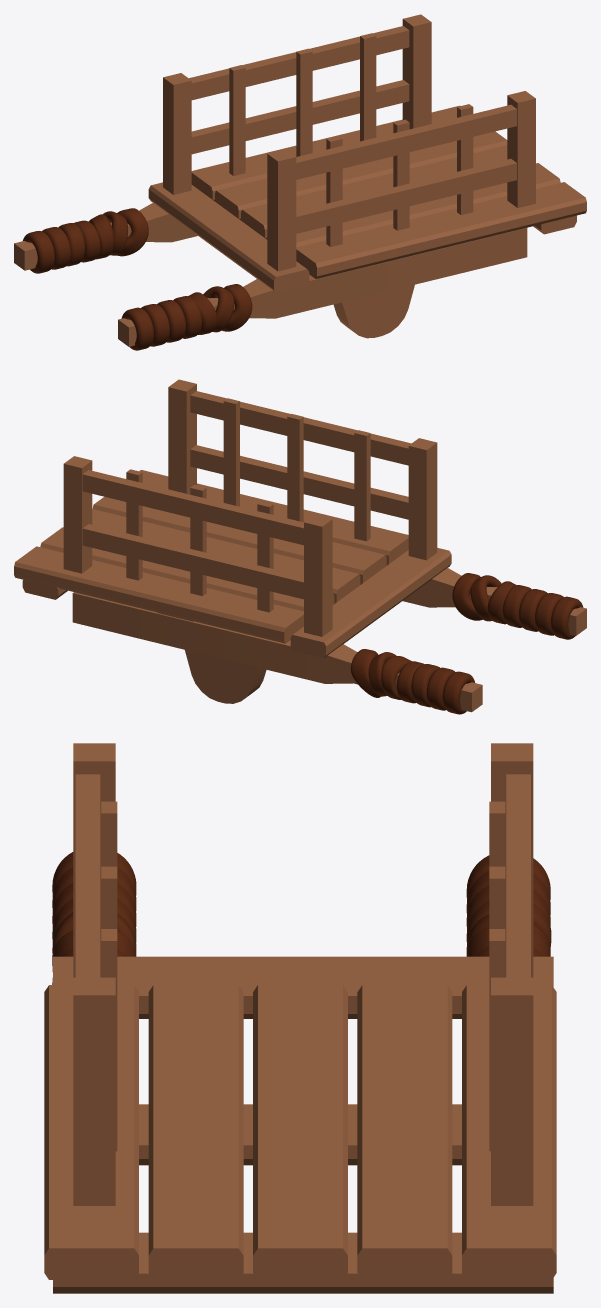
The model's file is cart.glb.
The picture shows the model from 3 angles, top to bottom: view 1: azimuth 30°, elevation 25°; view 2: azimuth 150°, elevation 25°; view 3: azimuth 270°, elevation 25°; orthographic projection. The views are drawn at different scales.
Visible parts, largest first — view 1: cart; view 2: cart; view 3: cart.
Boxes of the visible parts, x1,y1,x2,y2 form: cart: (14, 14, 586, 350); cart: (14, 379, 586, 714); cart: (44, 743, 556, 1293).
Size of the model in its own units: 7.04 by 2.97 by 3.46.
